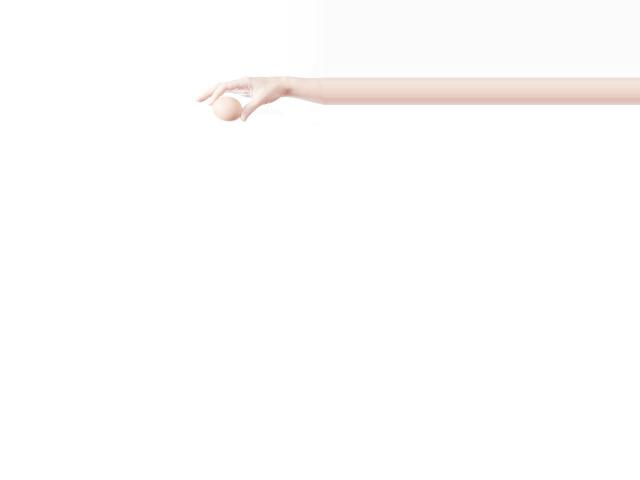egg: (212, 97, 243, 121)
